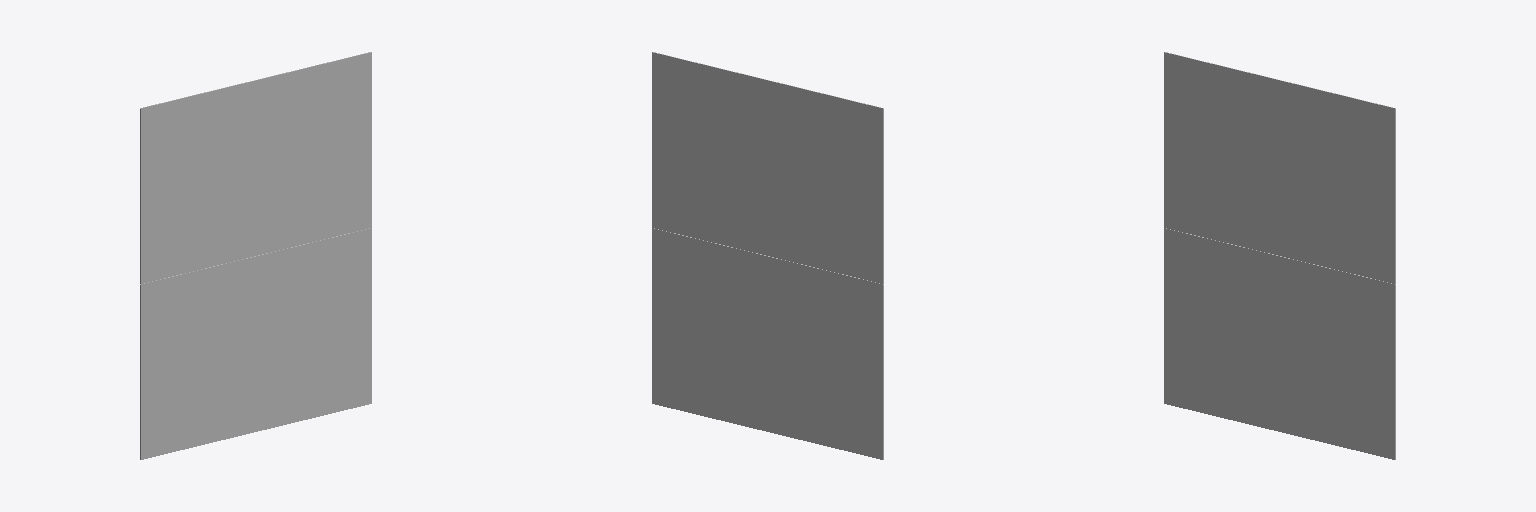
The model's file is LandPaper.obj.
3 renders of one model, left to right at view 1: azimuth 30°, elevation 25°; view 2: azimuth 150°, elevation 25°; view 3: azimuth 330°, elevation 25°, orthographic.
Visible parts, largest first — view 1: Shape1, Shape02; view 2: Shape1, Shape02; view 3: Shape1, Shape02.
Boxes of the visible parts, box(x1,y1,x2,y2) form: Shape1: box(140, 52, 371, 283); Shape02: box(140, 228, 371, 459); Shape1: box(652, 52, 883, 283); Shape02: box(652, 228, 883, 459); Shape1: box(1164, 52, 1395, 283); Shape02: box(1164, 228, 1395, 459).
Size of the model in its own units: 9.58 by 13.92 by 0.0394.